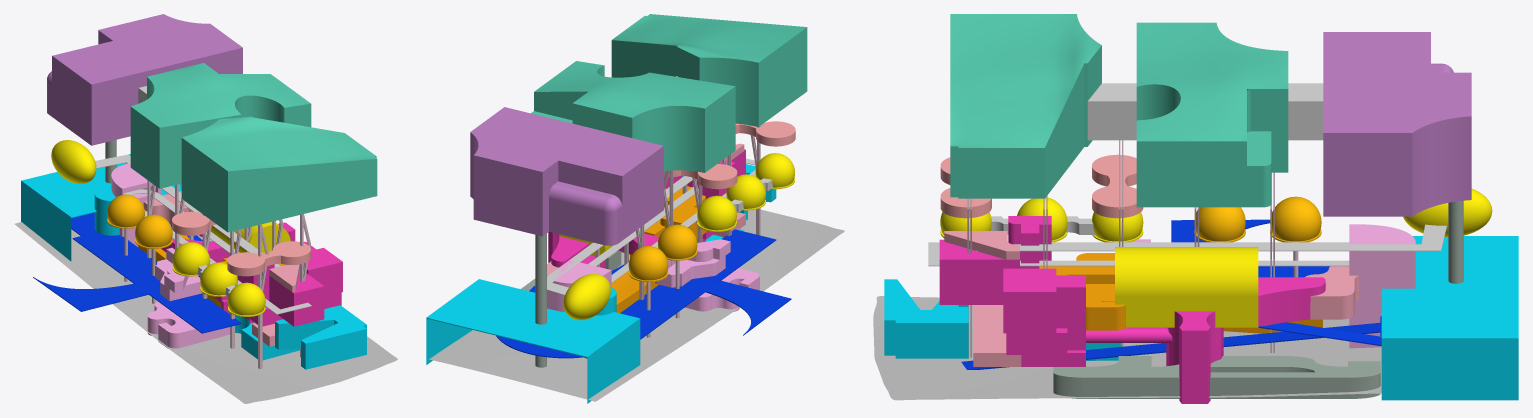
The picture shows the model from 3 angles, left to right: view 1: azimuth 30°, elevation 25°; view 2: azimuth 150°, elevation 25°; view 3: azimuth 270°, elevation 25°; orthographic projection. The views are drawn at different scales.
Bounding box in the file's own units: 82.64 × 78.93 × 153.
